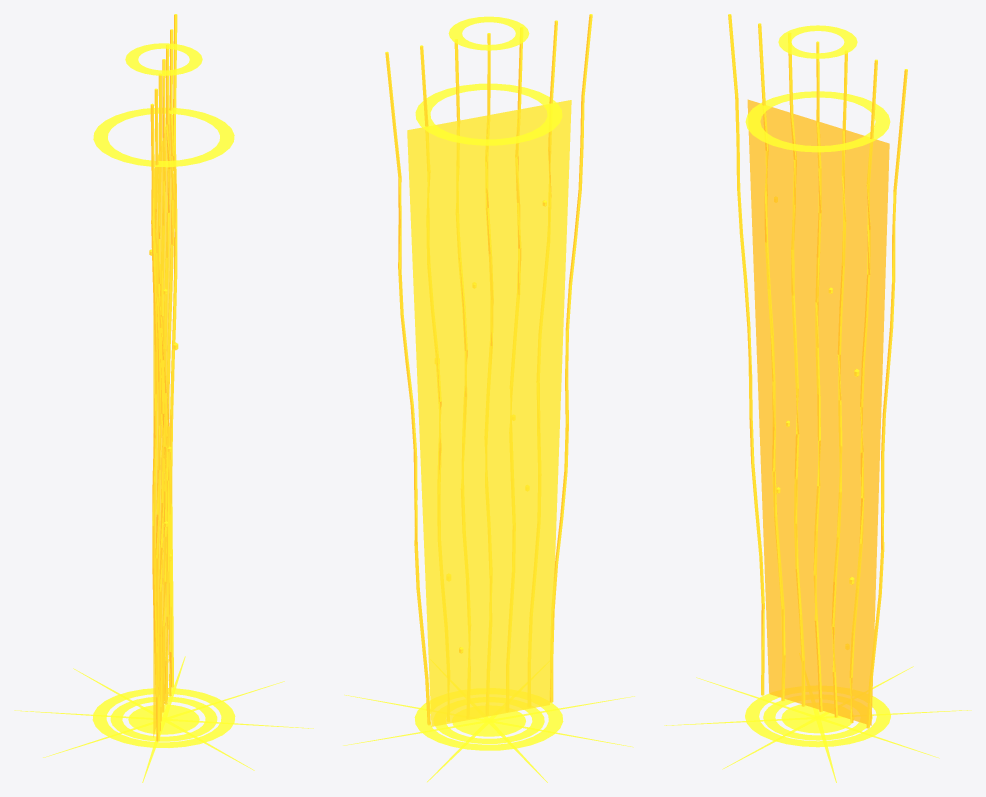
Rendered from knowledgebase-waterfall.glb.
3 renders of one model, left to right at view 1: azimuth 30°, elevation 25°; view 2: azimuth 150°, elevation 25°; view 3: azimuth 270°, elevation 25°, orthographic. The views are drawn at different scales.
Parts seen in each view (by area): view 1: knowledgebase_waterfall_sia_endpoint; view 2: knowledgebase_waterfall_sia_endpoint; view 3: knowledgebase_waterfall_sia_endpoint.
Boxes of the visible parts, box(x1,y1,x2,y2) form: knowledgebase_waterfall_sia_endpoint: box(14, 14, 313, 782); knowledgebase_waterfall_sia_endpoint: box(343, 14, 634, 782); knowledgebase_waterfall_sia_endpoint: box(664, 14, 971, 782).
Size of the model in its own units: 6.06 by 14.68 by 6.06.
